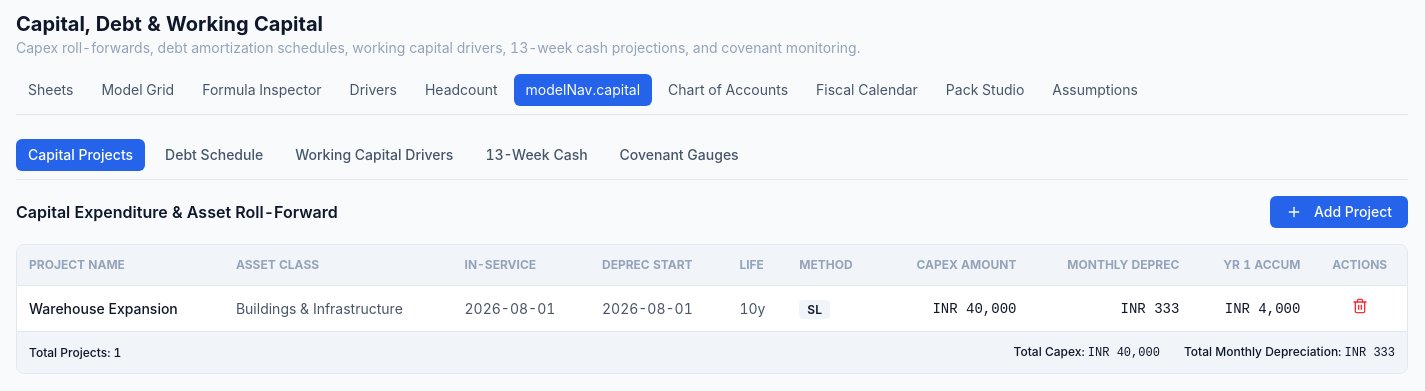
Test case: S-046 Capital, Debt & Working Capital screen (F-017 · M3-7) › switches tabs correctly to Debt Schedule
This screenshot has width=1425, height=391.
Step 1. Click the tab "Debt Schedule" → (214,155), box [153, 139, 275, 171]
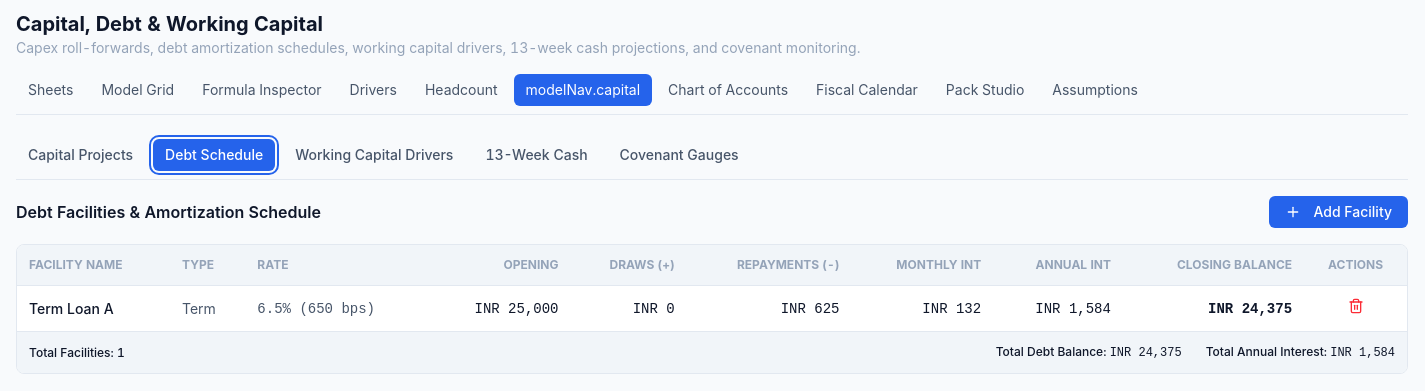
Now the heading "Debt Facilities & Amortization Schedule" is shown, box [16, 200, 321, 224]
Now the table named "Debt Facilities Table" is shown, box [17, 245, 1407, 331]
Now the text "Term Loan A" is shown, box [17, 286, 170, 331]
